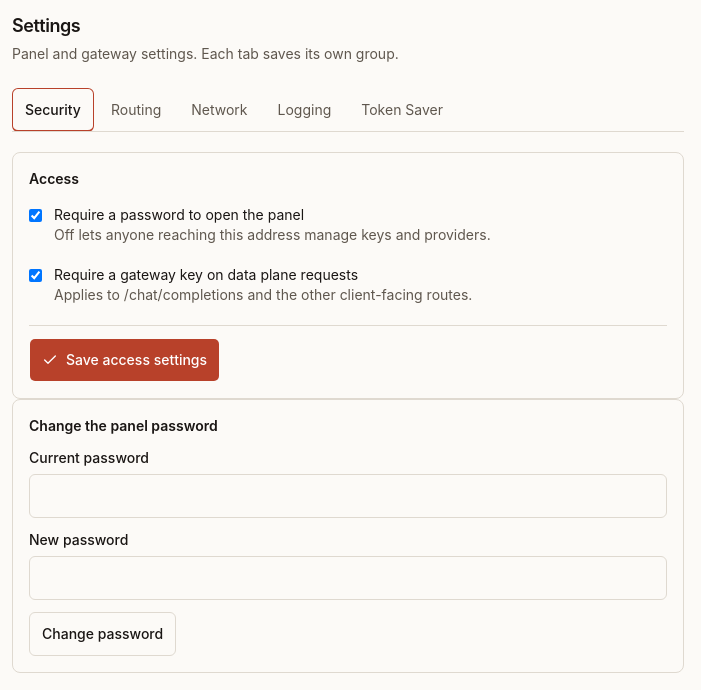
SettingsPage › states the privacy cost of turning capture on
The image size is (701, 690).
expect the element showing "Security Routing Network Logging Token Saver" is shown: met, box x1=12 y1=88 x2=684 y2=132
Click the tab "Logging".
click(304, 110)  # box x1=264 y1=88 x2=344 y2=132
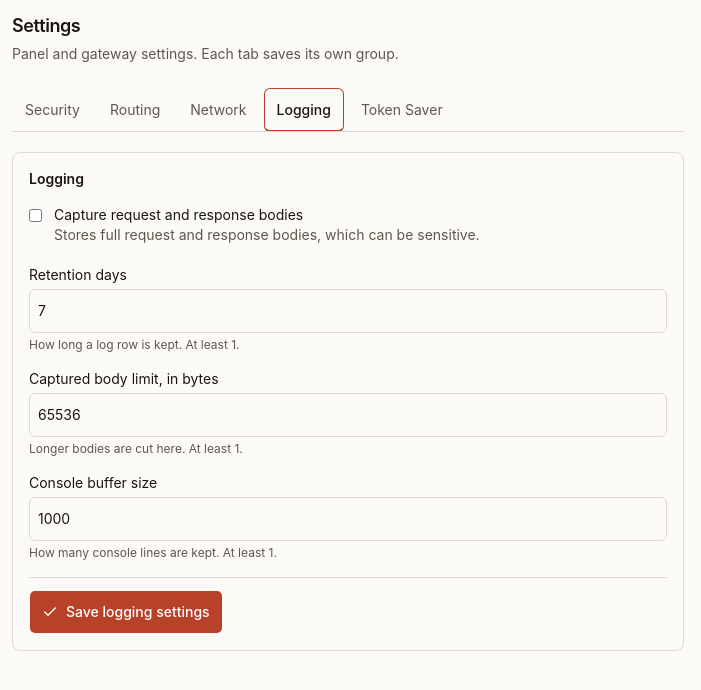
expect the text "can be sensitive" is shown: met, box x1=54 y1=226 x2=480 y2=243
